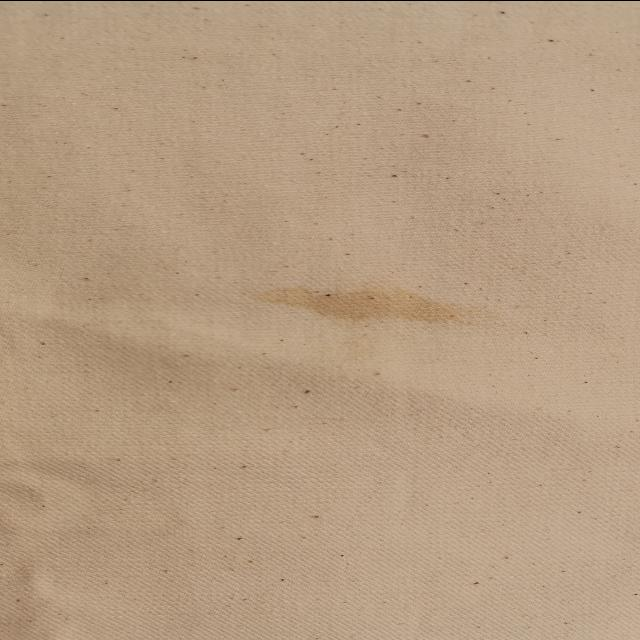taaaches: (228, 267, 492, 346)
